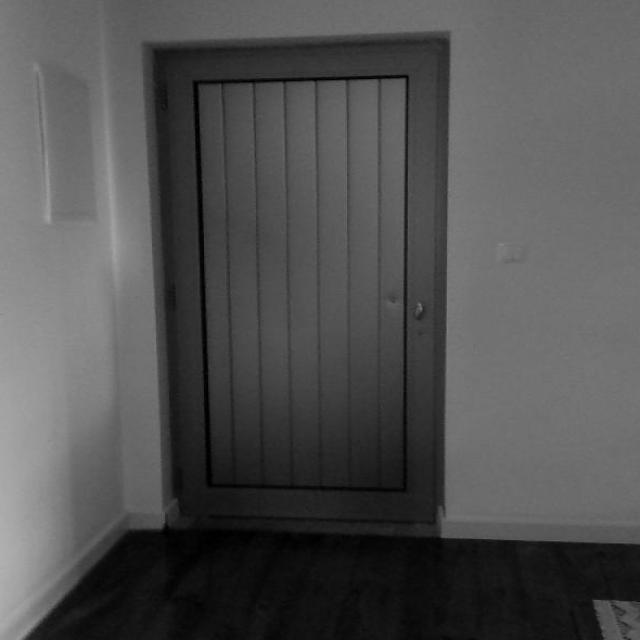door: (152, 36, 447, 526)
